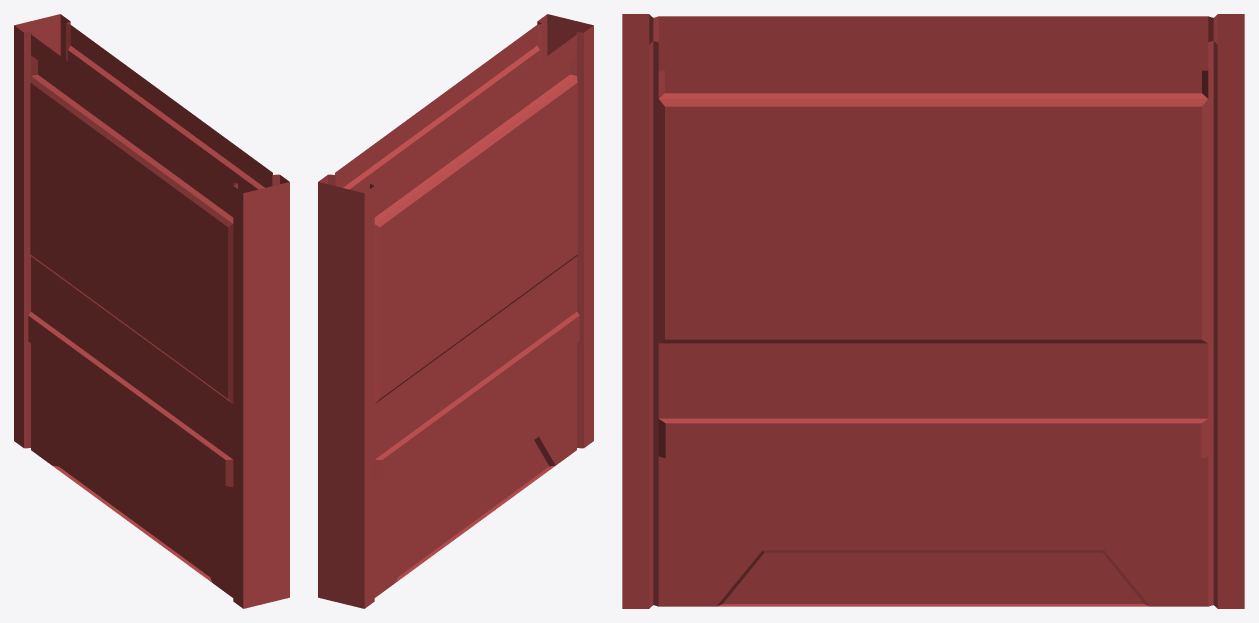
Rendered from SM_VALVE_WALL_4M_01.fbx.
3 renders of one model, left to right at view 1: azimuth 30°, elevation 25°; view 2: azimuth 150°, elevation 25°; view 3: azimuth 270°, elevation 25°, orthographic. The views are drawn at different scales.
Parts seen in each view (by area): view 1: SM_VALVE_WALL_4M_01; view 2: SM_VALVE_WALL_4M_01; view 3: SM_VALVE_WALL_4M_01.
Part boxes in pixels (x1,y1,x2,y2): SM_VALVE_WALL_4M_01: (14, 14, 289, 608); SM_VALVE_WALL_4M_01: (318, 14, 593, 608); SM_VALVE_WALL_4M_01: (622, 14, 1244, 608).
Size of the model in its own units: 0.5028 by 4 by 4.
